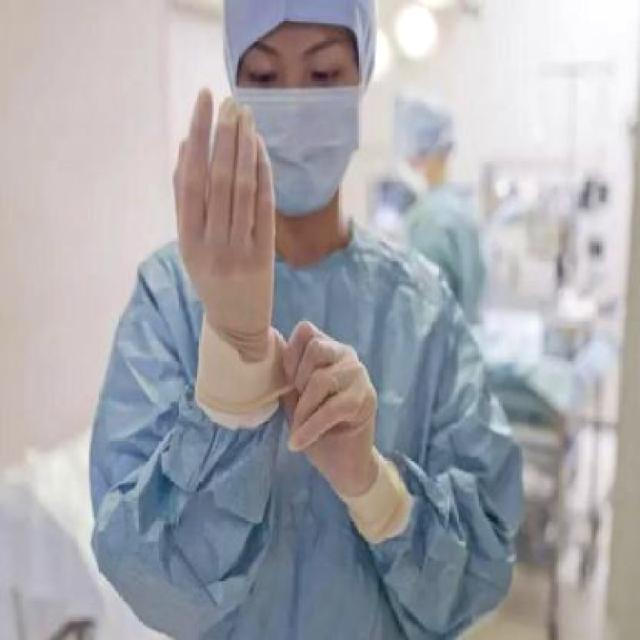face_mask: (237, 34, 374, 211)
hand_glove: (171, 86, 278, 337), (278, 317, 380, 478)
